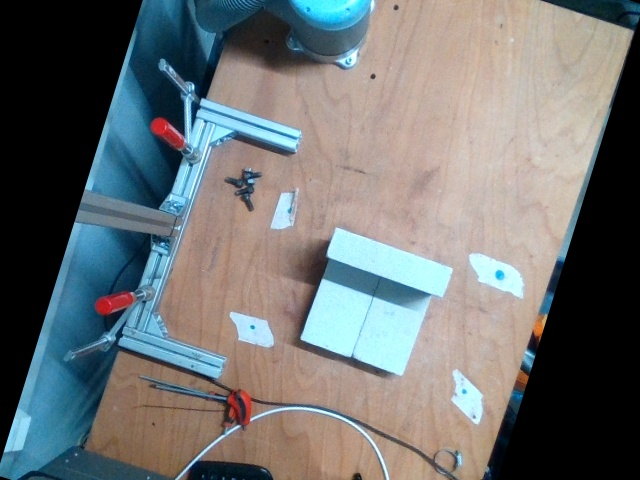brick-side: (327, 227, 452, 299)
